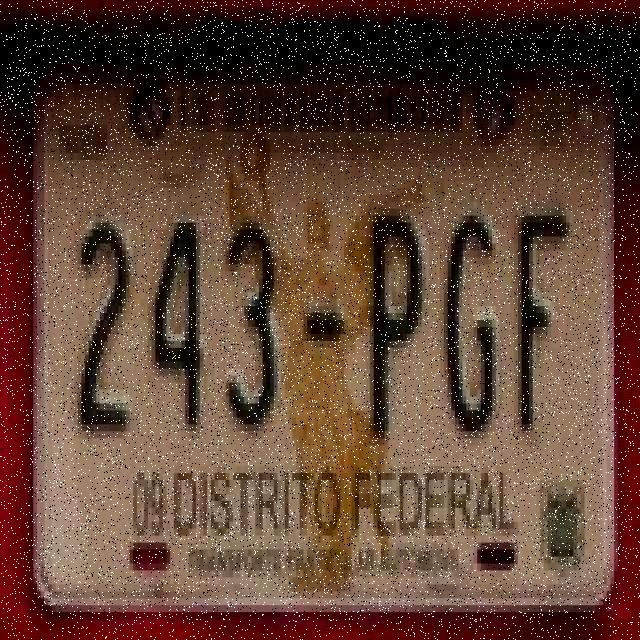licenseplate: (22, 9, 632, 629)
